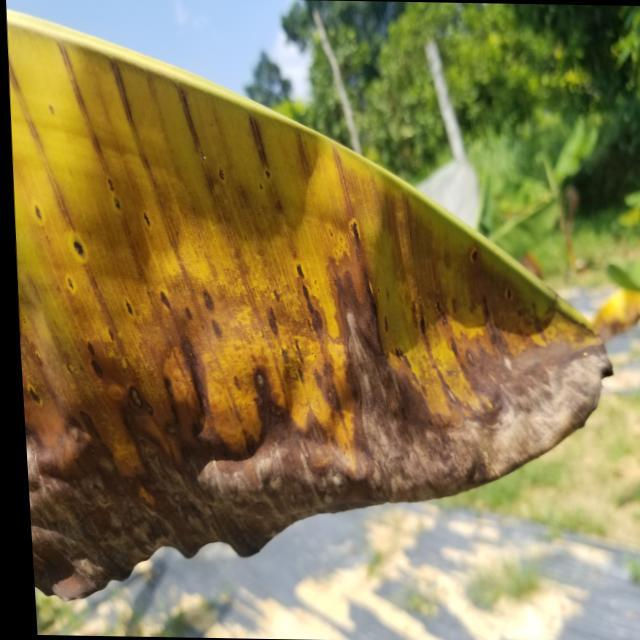Early_rust: (0, 36, 597, 564), (565, 248, 640, 368)
